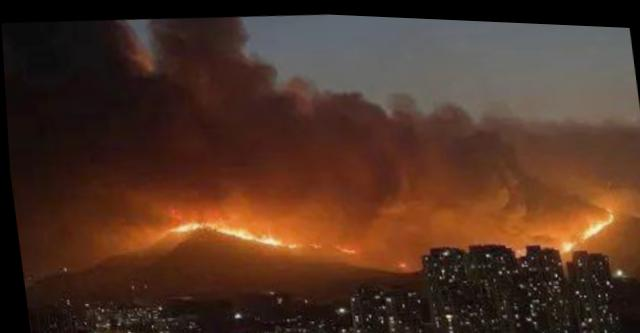fire: (157, 200, 361, 258), (547, 194, 622, 251)
